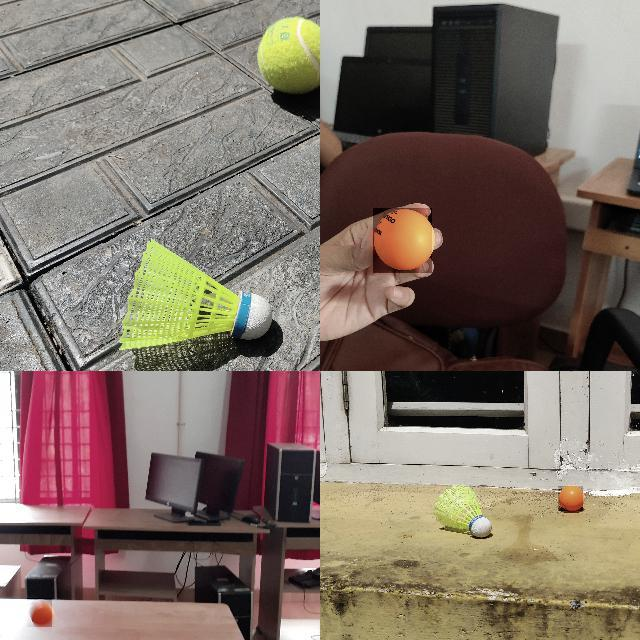ping-pong-ball: (373, 208, 433, 274), (27, 598, 53, 628), (558, 486, 584, 512)
